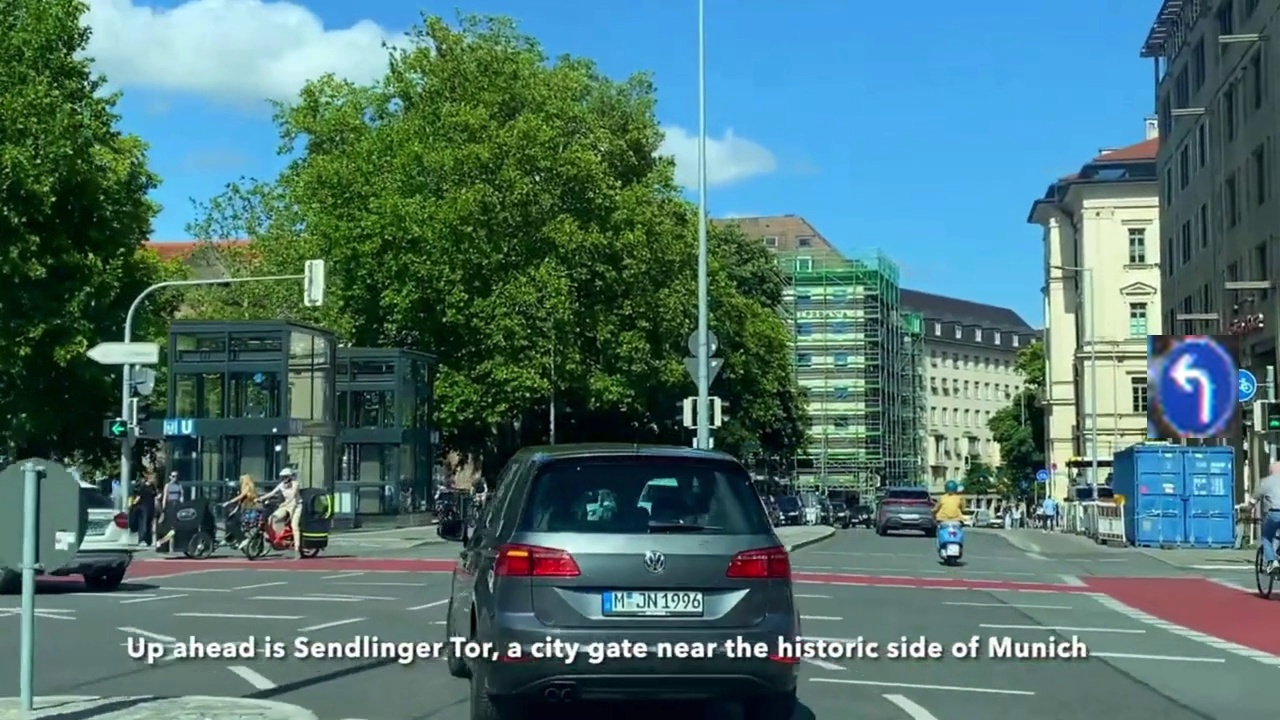Turn left: (1147, 335, 1239, 438)
